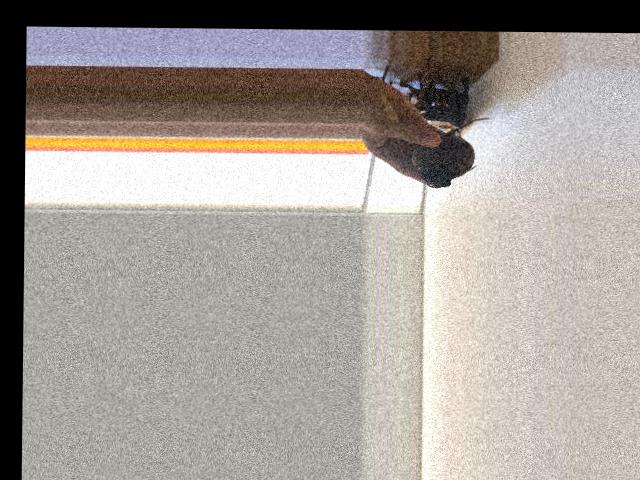beet: (411, 116, 493, 188)
